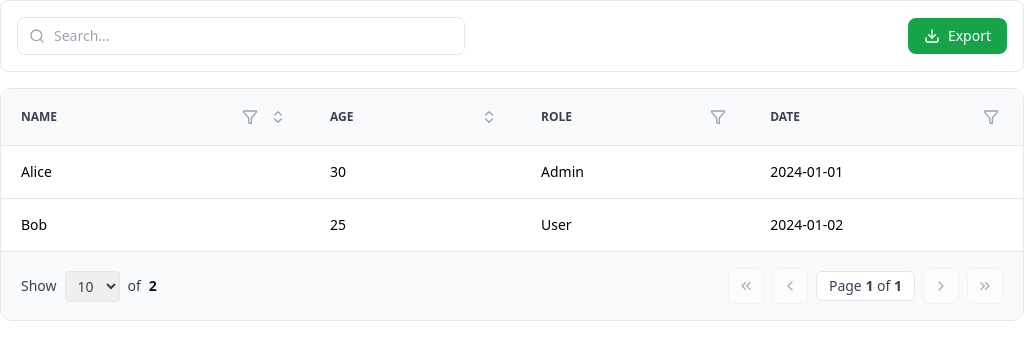
Scenario: DataTable - High Coverage › filters by search term
In the field with placeholder "Search...": (241, 36) [17,17,465,55], type "alice"
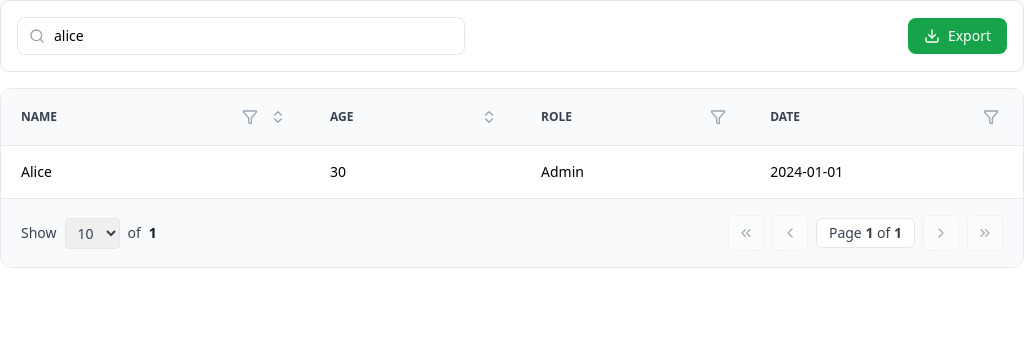
Check: the text "Bob" is gone
